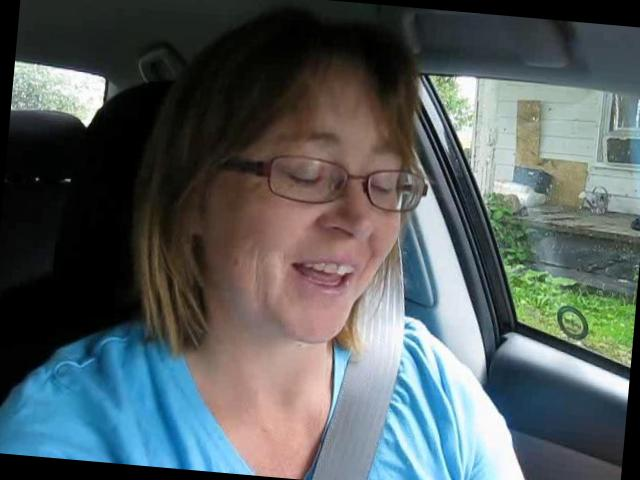eye_closed: (270, 159, 332, 200), (366, 174, 401, 206)
face: (212, 117, 414, 356)
